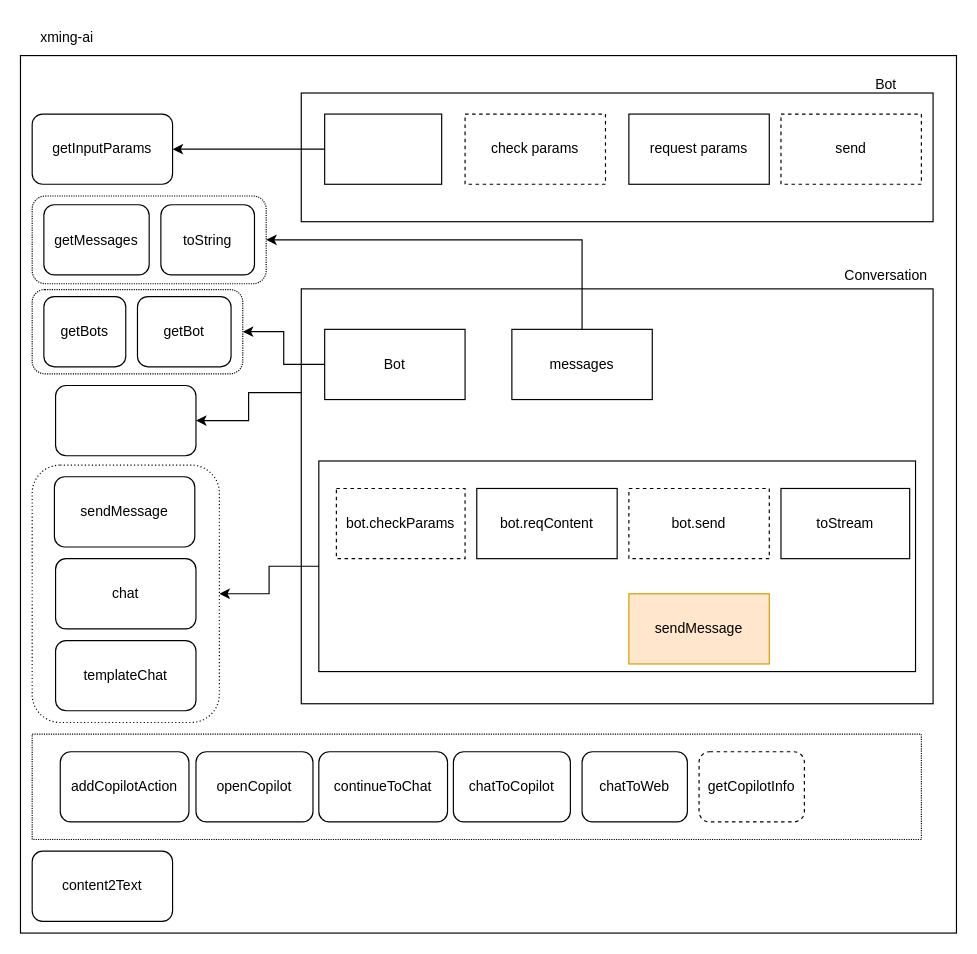
The diagram is 977 pixels wide and 954 high, and some of its shapes have lost their labels. The box of each missing label's shape, as (x1, y1, x2, y2) in pixels:
createConversation: (54, 384, 196, 456)
inputParams: (324, 113, 442, 184)
